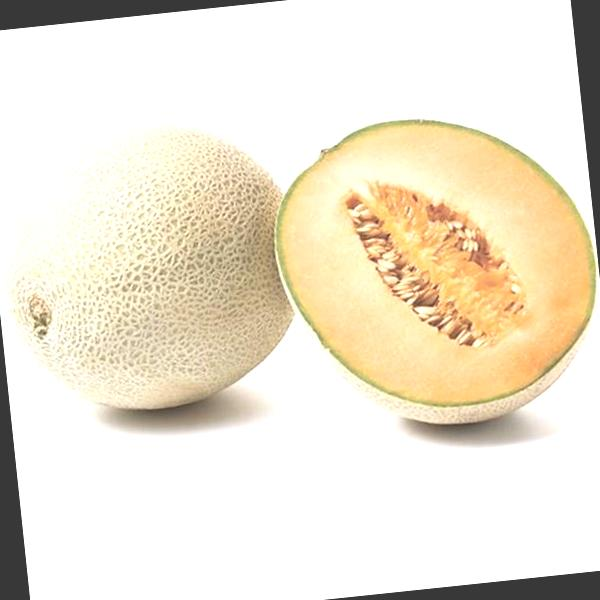Melon Ripe: (265, 102, 600, 445), (0, 104, 305, 422)
